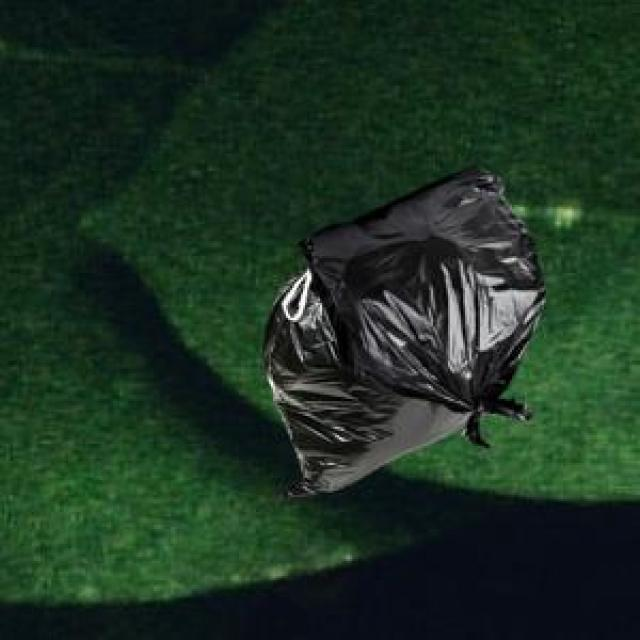waste: (265, 172, 545, 492)
